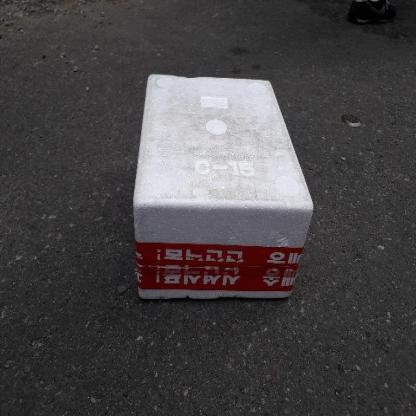Glass Cup: (133, 74, 313, 299), (133, 73, 313, 298)
